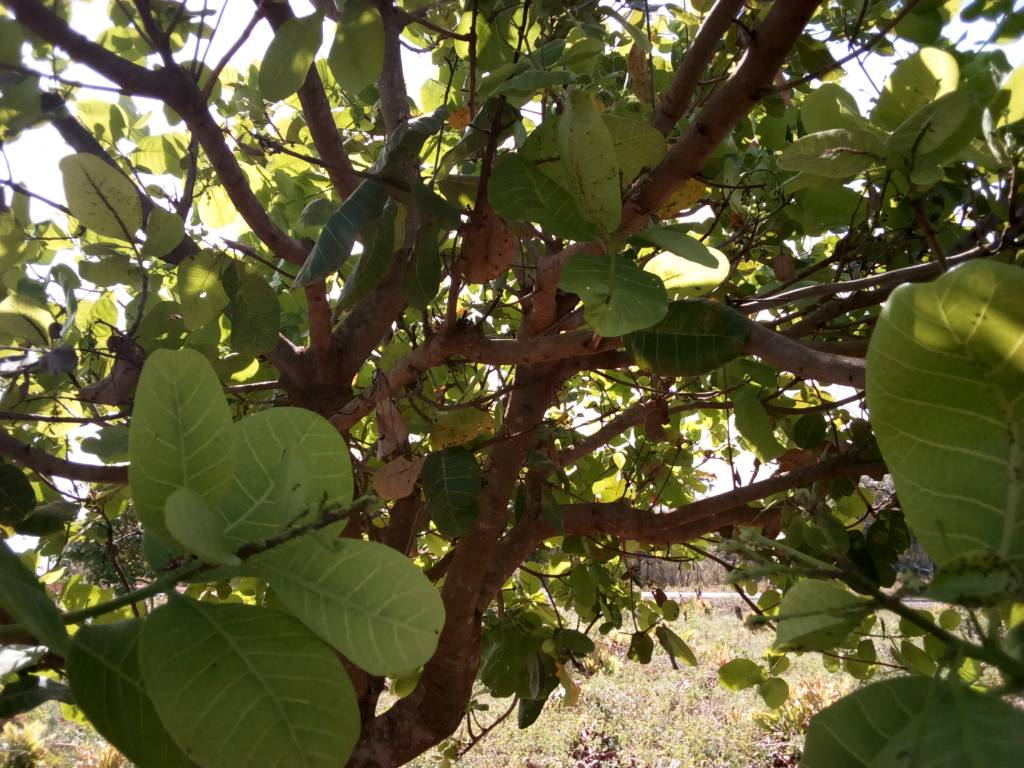Anthracnose: (556, 87, 621, 237), (922, 546, 1023, 612), (460, 208, 511, 285), (656, 179, 708, 220)
